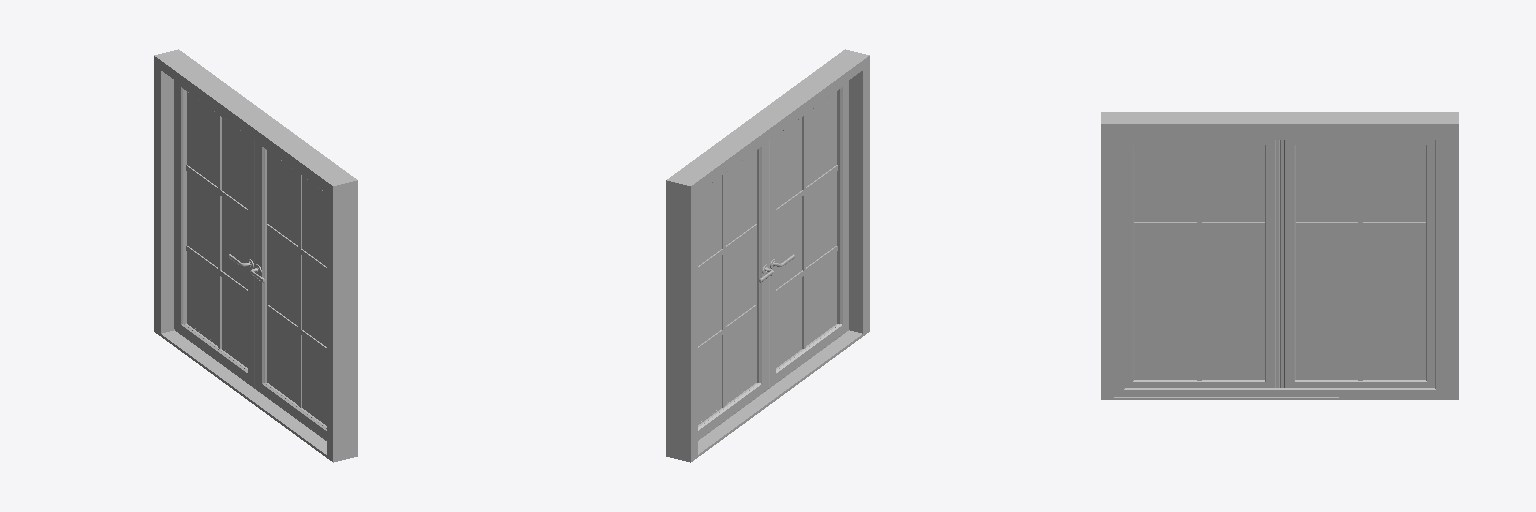
Rendered from window3.obj.
3 views of the same model, side by side, from view 1: azimuth 30°, elevation 25°; view 2: azimuth 150°, elevation 25°; view 3: azimuth 270°, elevation 25° (orthographic).
Parts seen in each view (by area): view 1: 16639_12_Pane_Casement_Window-White_V1.001; view 2: 16639_12_Pane_Casement_Window-White_V1.001; view 3: 16639_12_Pane_Casement_Window-White_V1.001.
Boxes of the visible parts, box(x1,y1,x2,y2) form: 16639_12_Pane_Casement_Window-White_V1.001: box(154, 49, 357, 462); 16639_12_Pane_Casement_Window-White_V1.001: box(666, 49, 869, 462); 16639_12_Pane_Casement_Window-White_V1.001: box(1101, 112, 1458, 399).
Size of the model in its own units: 0.127 by 1.34 by 1.57.